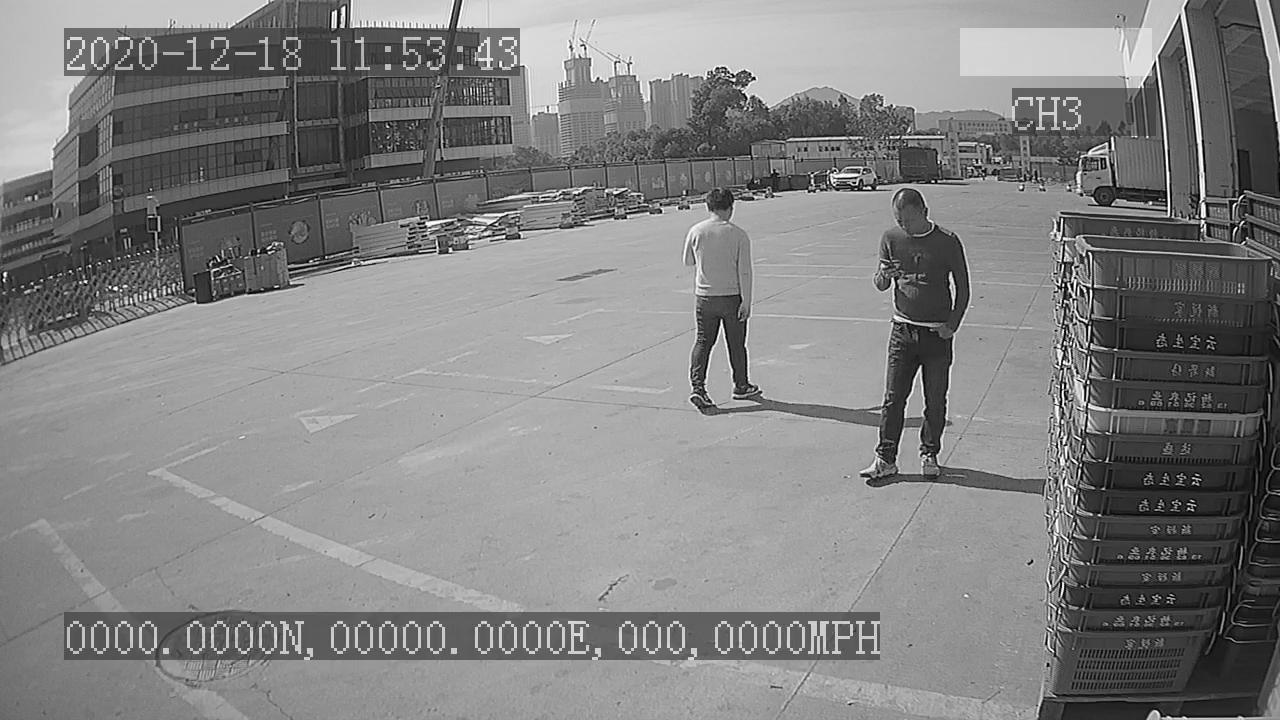person: (851, 181, 979, 485), (677, 186, 767, 413)
